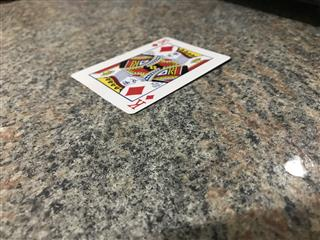KingOfDiamonds: (69, 35, 231, 113)
